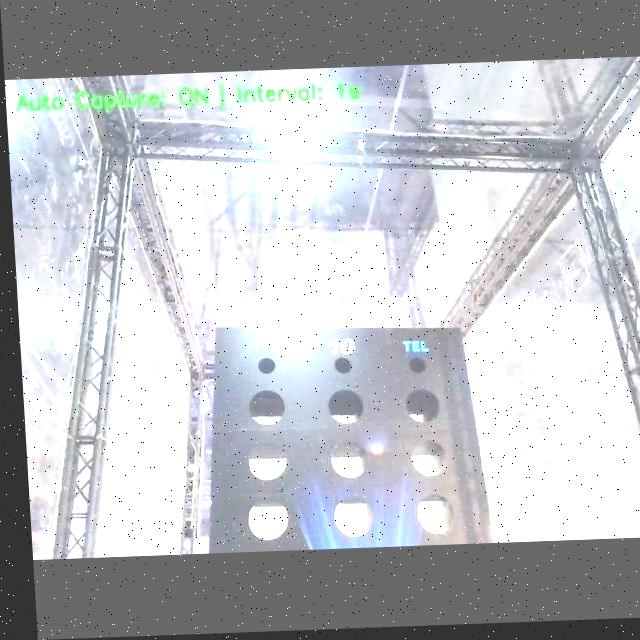hole: (414, 493, 456, 535), (248, 498, 289, 540), (333, 497, 375, 537), (248, 443, 290, 481), (330, 440, 369, 479), (410, 439, 449, 477), (328, 388, 365, 425), (248, 389, 286, 425), (405, 388, 441, 424), (258, 357, 275, 374), (409, 357, 427, 373), (335, 357, 352, 372)
